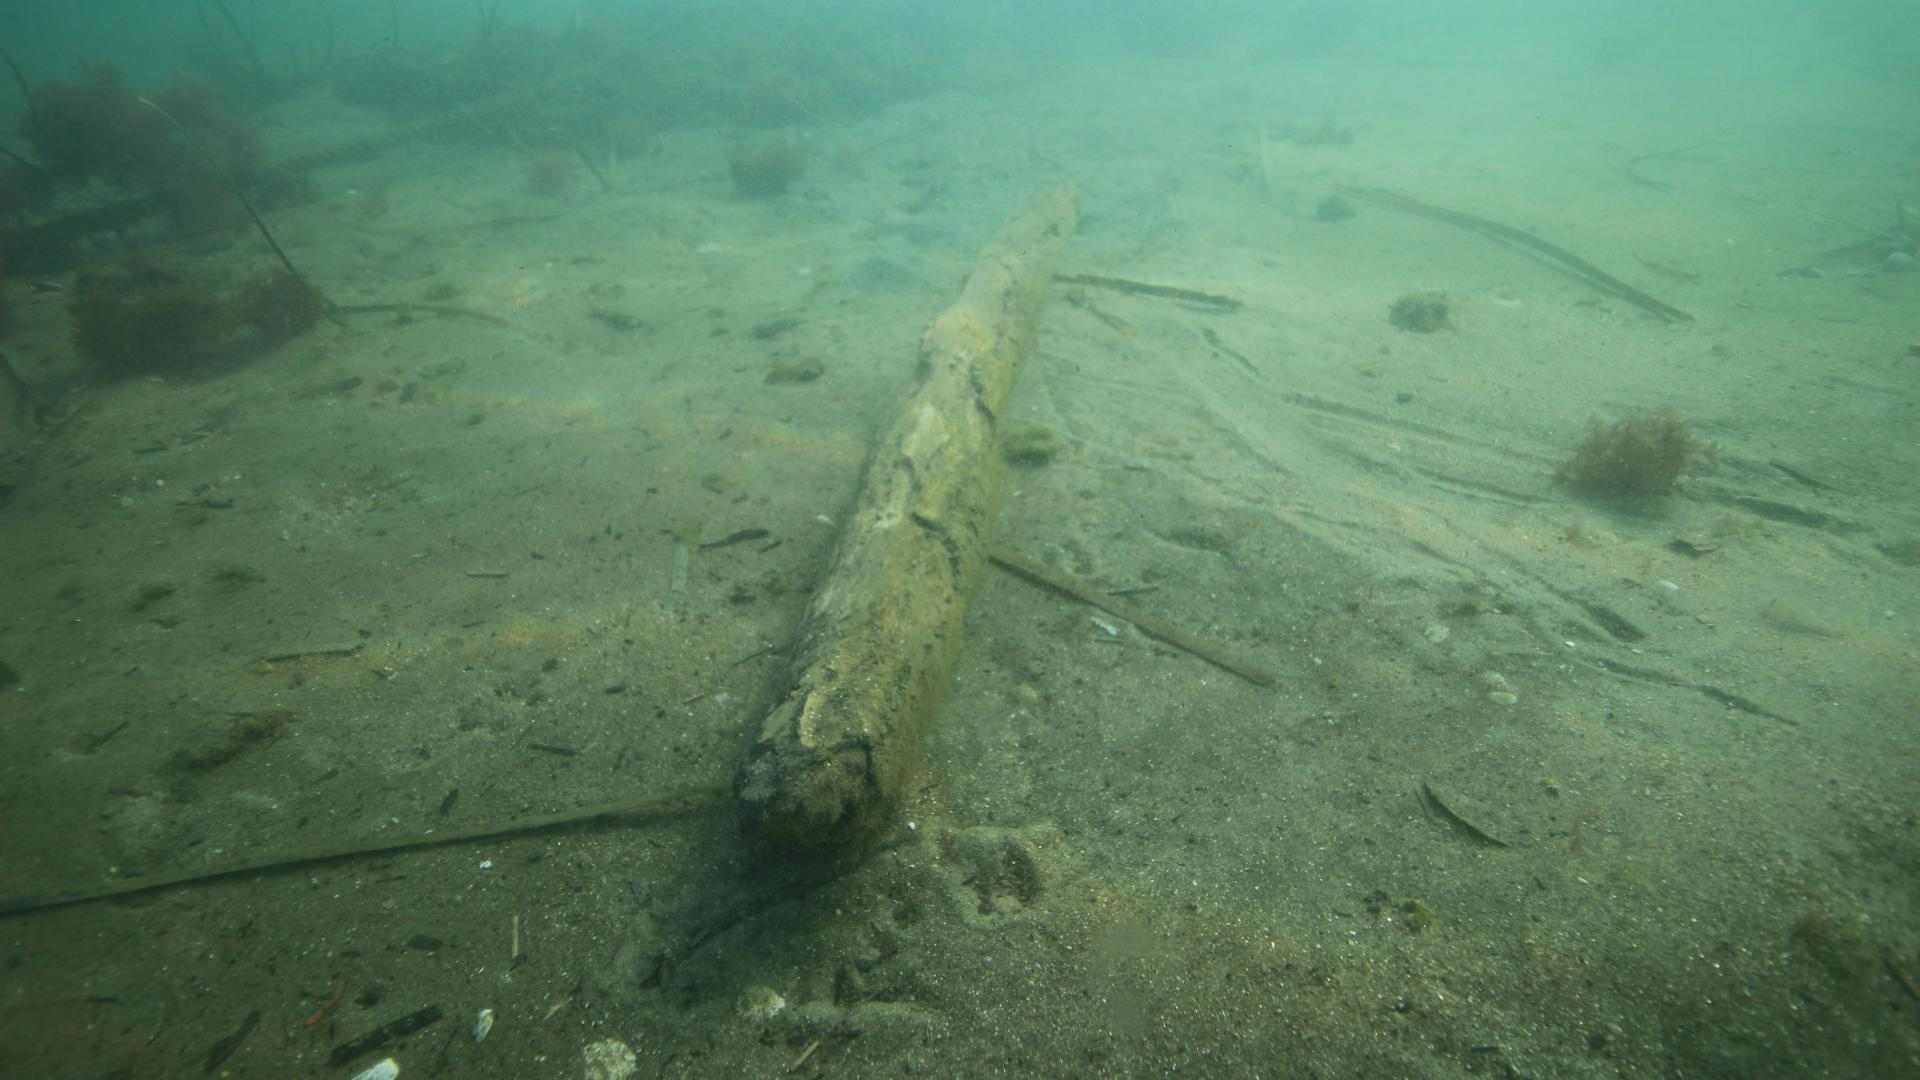wood: (733, 177, 1083, 882)
